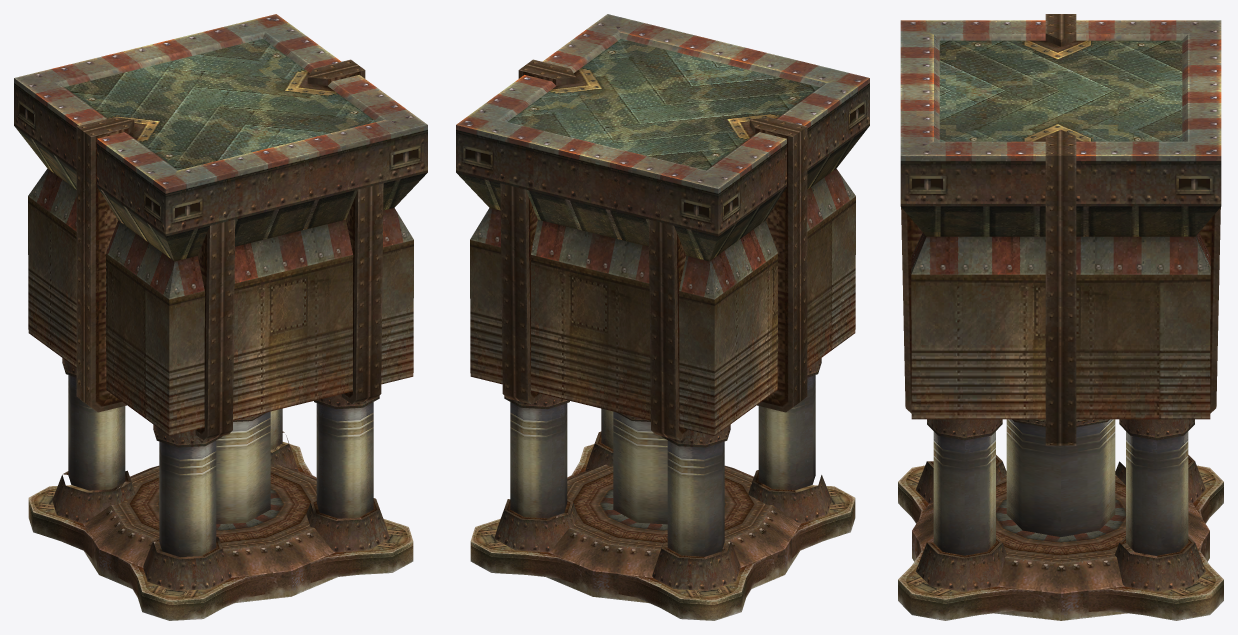
The model's file is CrusherTop.gltf.
3 renders of one model, left to right at view 1: azimuth 30°, elevation 25°; view 2: azimuth 150°, elevation 25°; view 3: azimuth 270°, elevation 25°, orthographic. The views are drawn at different scales.
Parts seen in each view (by area): view 1: CrusherTopMesh; view 2: CrusherTopMesh; view 3: CrusherTopMesh.
Boxes of the visible parts, <box> form: CrusherTopMesh: <box>14,14,427,620</box>; CrusherTopMesh: <box>456,14,869,620</box>; CrusherTopMesh: <box>898,14,1223,620</box>.
Size of the model in its own units: 5.23 by 8.14 by 5.08.
Materials: 3 (3 with a texture image).
